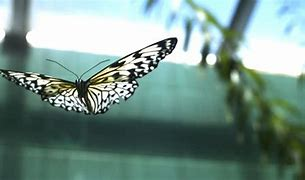insect: (0, 36, 176, 116)
